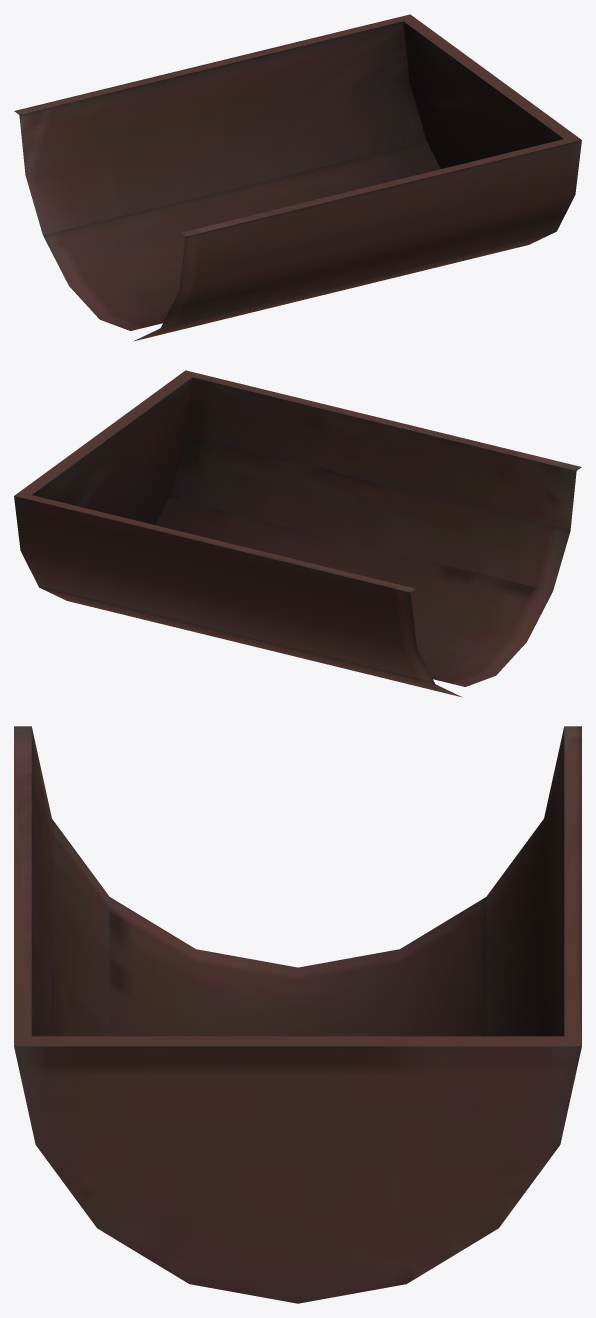
3 renders of one model, top to bottom at view 1: azimuth 30°, elevation 25°; view 2: azimuth 150°, elevation 25°; view 3: azimuth 270°, elevation 25°, orthographic. The views are drawn at different scales.
Parts seen in each view (by area): view 1: body0_model0_lod0_mesh0; view 2: body0_model0_lod0_mesh0; view 3: body0_model0_lod0_mesh0.
Boxes of the visible parts, bbox=[...] form: body0_model0_lod0_mesh0: bbox=[14, 14, 581, 341]; body0_model0_lod0_mesh0: bbox=[14, 370, 581, 697]; body0_model0_lod0_mesh0: bbox=[14, 726, 581, 1303].
Bounding box in the file's own units: 32 × 12 × 24.
Materials: 1 (1 with a texture image).
